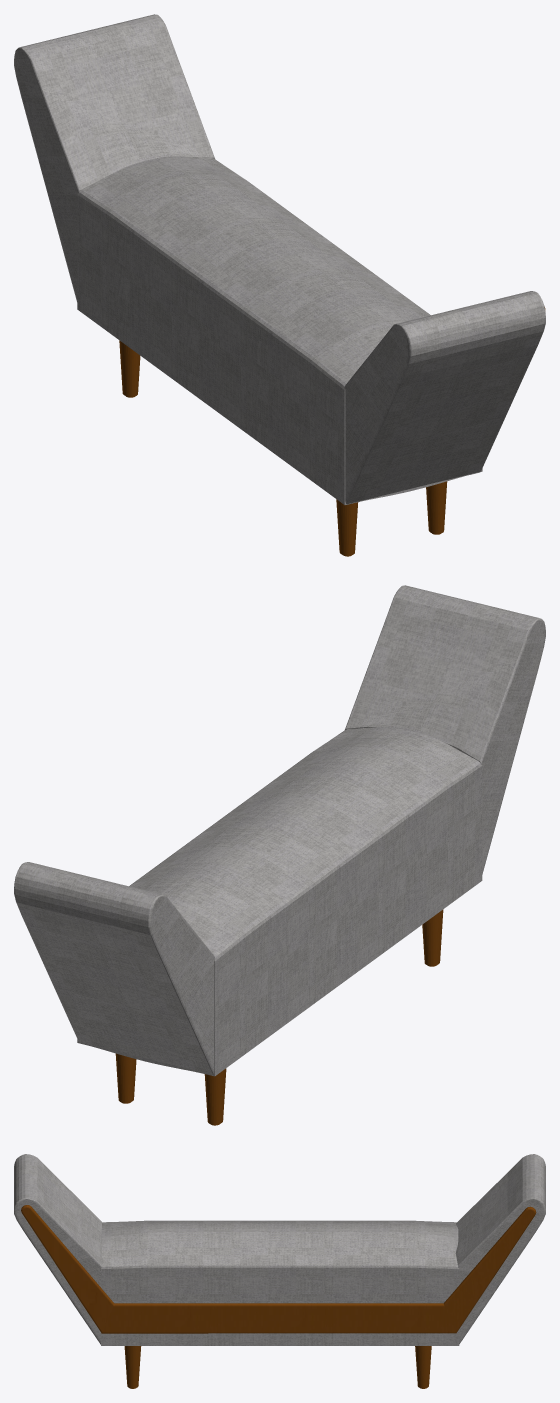
File: Sienna4git.glb
3 views of the same model, one above another, from view 1: azimuth 30°, elevation 25°; view 2: azimuth 150°, elevation 25°; view 3: azimuth 270°, elevation 25° (orthographic). The views are drawn at different scales.
Visible parts, largest first — view 1: Cylinder.005, Cylinder.001; view 2: Cylinder.005, Cylinder.001; view 3: Cylinder.005, Cylinder.001.
Part boxes in pixels (left/top/right/bottom): Cylinder.005: left=14, top=14, right=545, bottom=504; Cylinder.001: left=119, top=307, right=545, bottom=556; Cylinder.005: left=14, top=585, right=545, bottom=1076; Cylinder.001: left=115, top=909, right=443, bottom=1125; Cylinder.005: left=14, top=1154, right=545, bottom=1345; Cylinder.001: left=21, top=1205, right=536, bottom=1388.
Size of the model in its own units: 0.6793 by 1.34 by 3.29.
2 materials, 2 textured.
